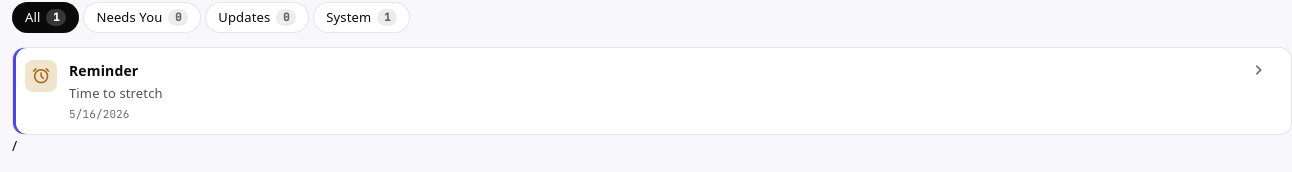
InAppFeedTabContent › routes reminder notifications to /reminders, not /tasks
Click the text "Time to stretch".
click(116, 93)  # box [69, 84, 163, 102]
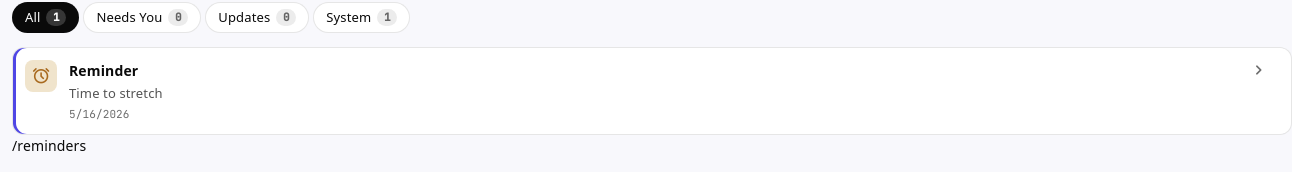
Check: the text with test id "location" reads "/reminders", box [12, 136, 86, 155]
